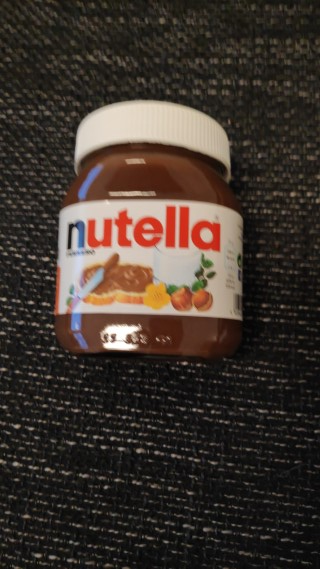nutella: (51, 97, 243, 362)
